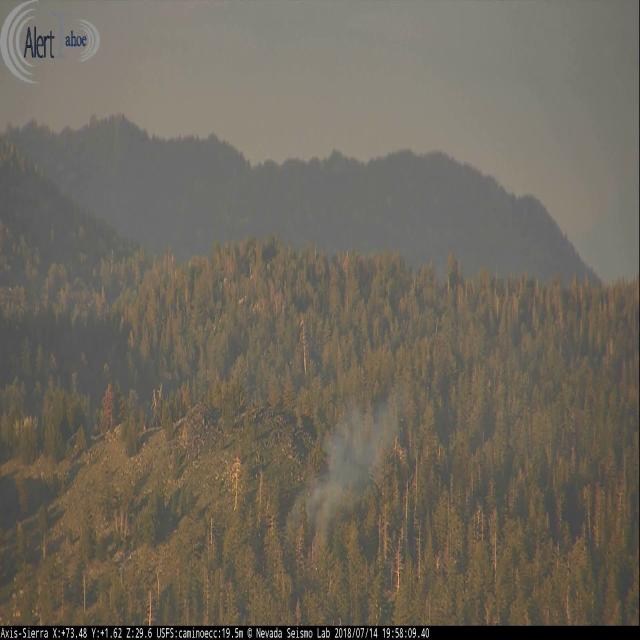smoke: (308, 389, 399, 515)
